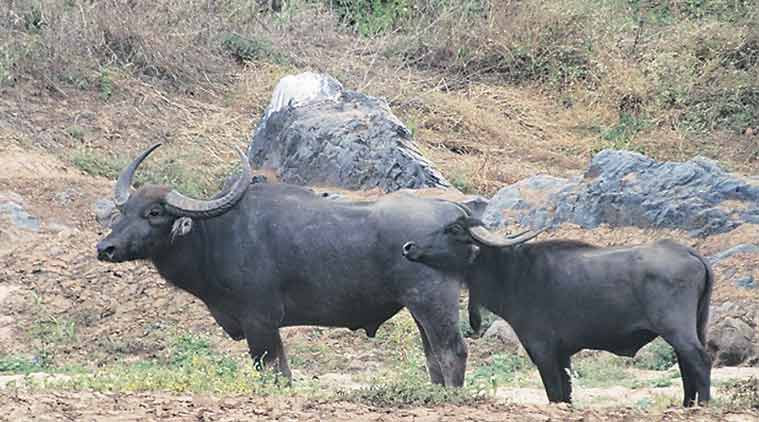buffalo: (86, 139, 492, 397), (400, 214, 724, 415)
